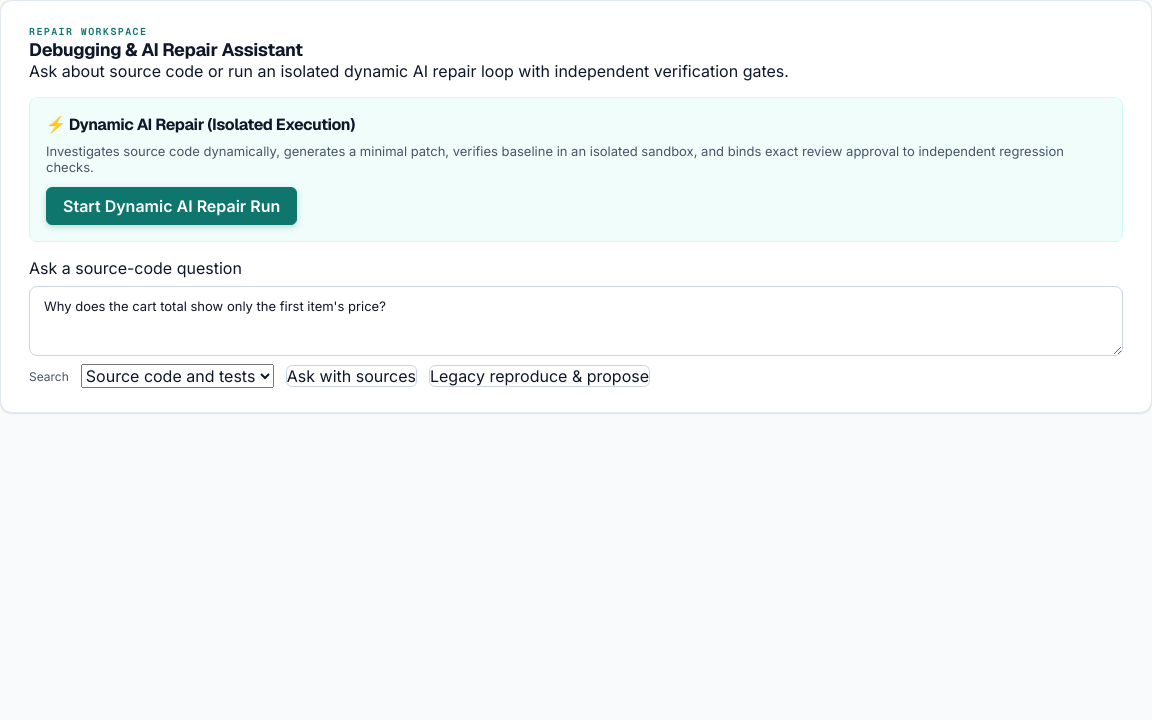
Test: AIAssistant Component › sends an explicit retrieval scope and explains extractive fallback
The width and height of the screenshot is (1152, 720).
Click the button "Ask with sources" at (351, 376), box [286,365,417,387]
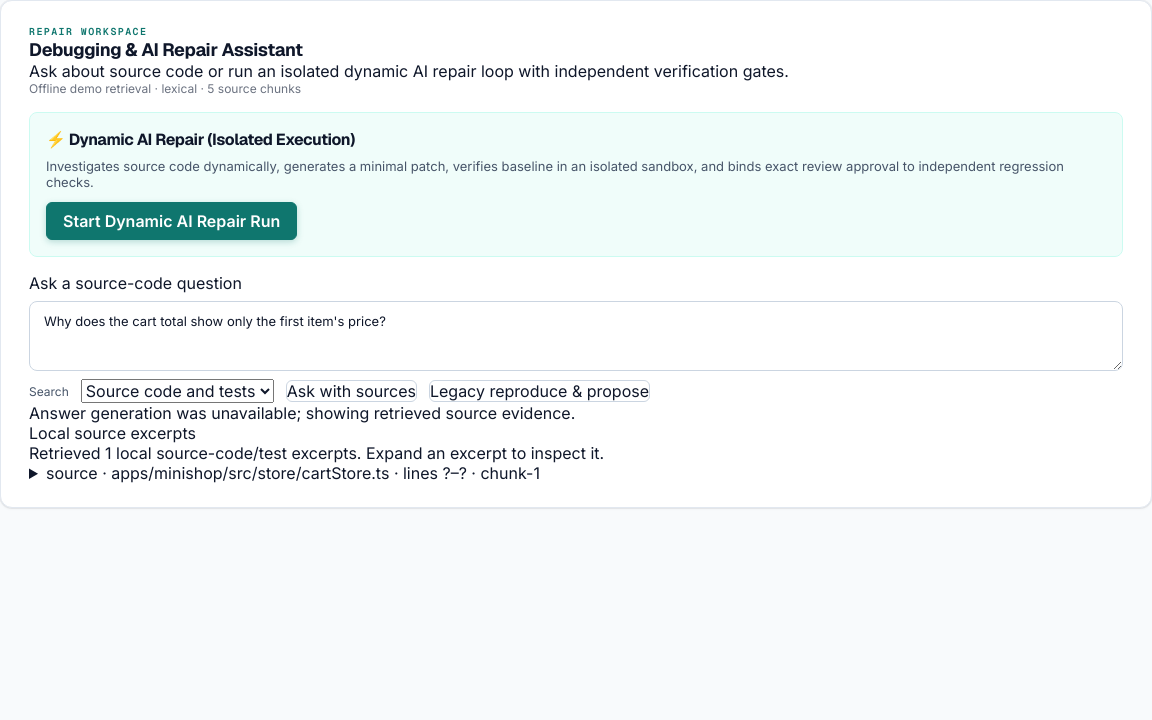
expect the text "Answer generation was unavailable; showing retrieved source evidence." is shown: met, box [29,403,575,423]
